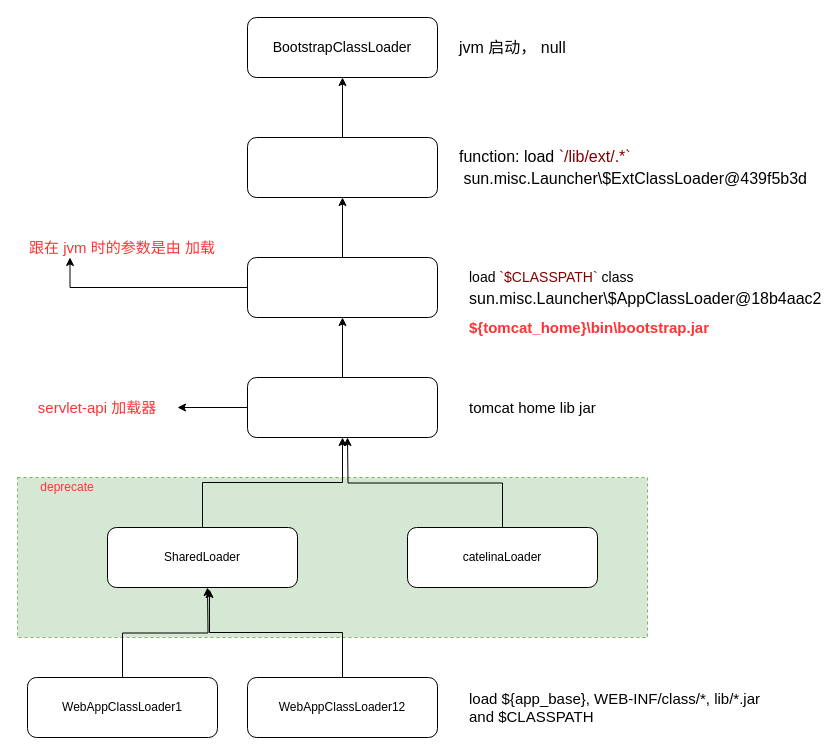
Image size: 839x755. Some labels were removed from this diagram. The shapes that lost their labels are listed below. From the top down, each one's box as (x1, y1, x2, y2) in pixels, then its label:
(246, 136, 438, 198): ExtensionClassLoader
(246, 256, 438, 318): AppClassLoader
(246, 376, 438, 438): CommonLoader
